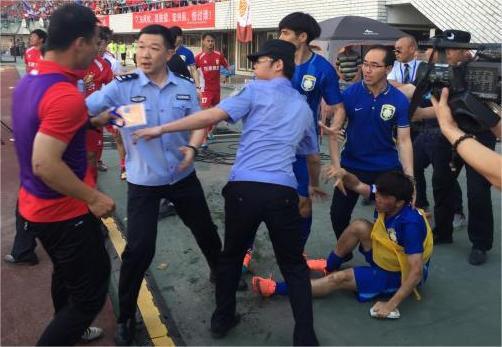down: (252, 172, 438, 320)
up: (89, 22, 231, 343), (189, 36, 327, 347), (2, 2, 116, 339), (335, 45, 418, 240), (191, 26, 230, 154)
